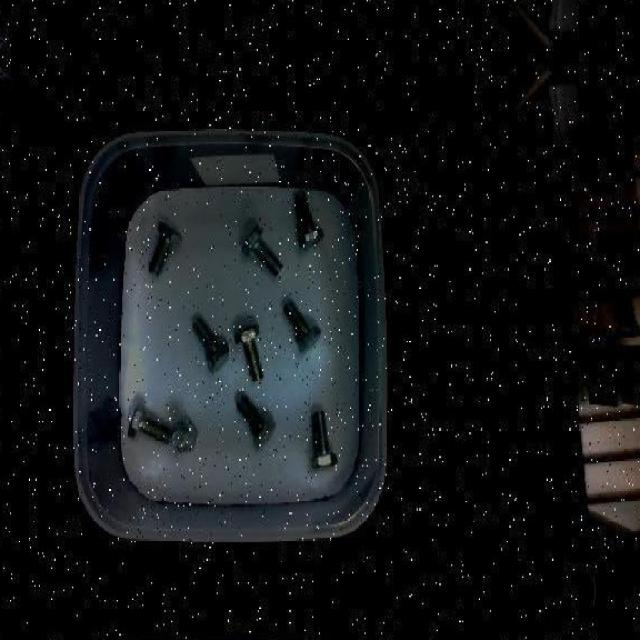screw: (236, 394, 276, 448), (242, 225, 284, 276), (193, 318, 231, 371), (284, 300, 322, 352), (148, 221, 182, 277), (128, 401, 172, 444), (234, 324, 264, 382), (294, 191, 324, 249), (310, 410, 338, 468), (171, 419, 197, 453)
